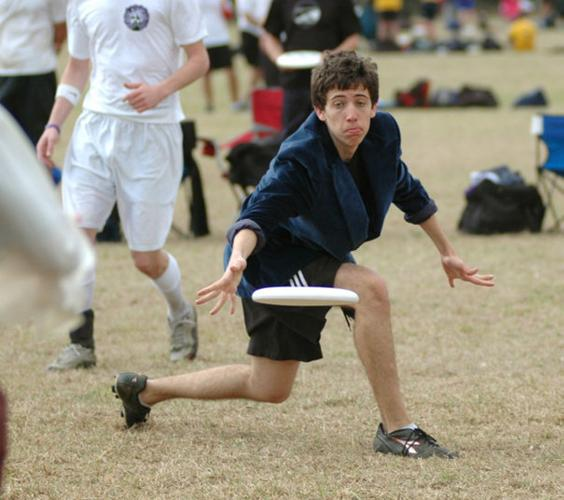person: (113, 48, 495, 462)
